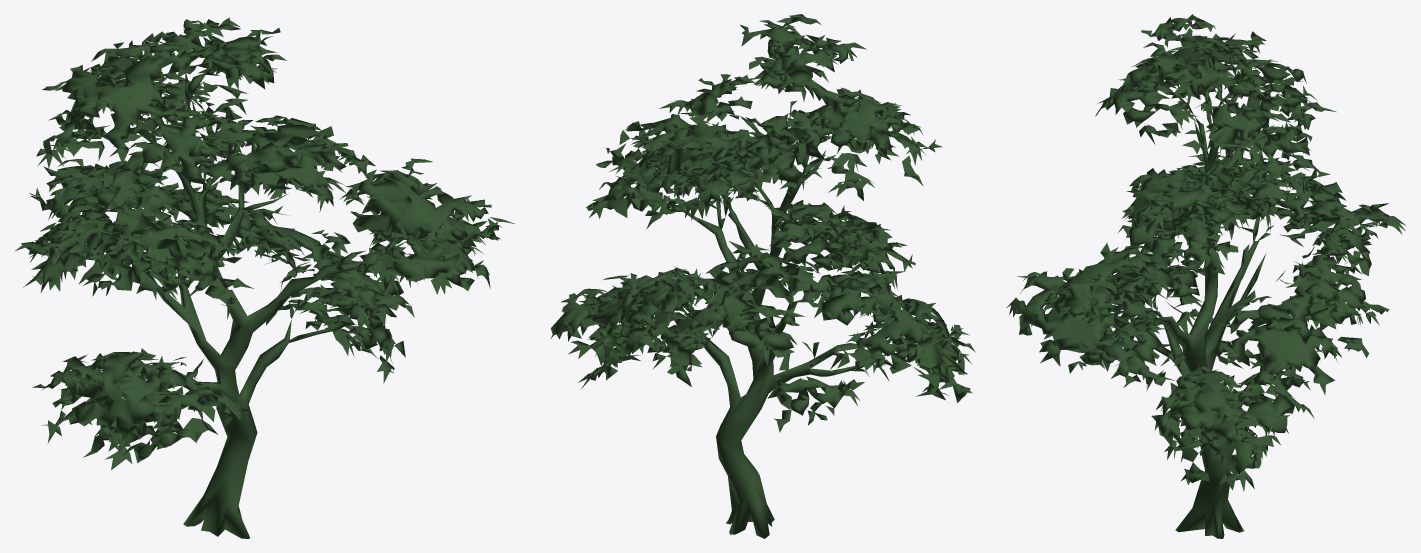
The model's file is gen-tree-maple-red-1.glb.
3 renders of one model, left to right at view 1: azimuth 30°, elevation 25°; view 2: azimuth 150°, elevation 25°; view 3: azimuth 270°, elevation 25°, orthographic. The views are drawn at different scales.
Parts seen in each view (by area): view 1: gen-tree-maple-red-1_part1; view 2: gen-tree-maple-red-1_part1; view 3: gen-tree-maple-red-1_part1.
Boxes of the visible parts, x1=… form: gen-tree-maple-red-1_part1: x1=15, y1=17, x2=514, y2=538; gen-tree-maple-red-1_part1: x1=550, y1=14, x2=975, y2=538; gen-tree-maple-red-1_part1: x1=1006, y1=14, x2=1406, y2=538.
Bounding box in the file's own units: 5593 × 6500 × 4816.
